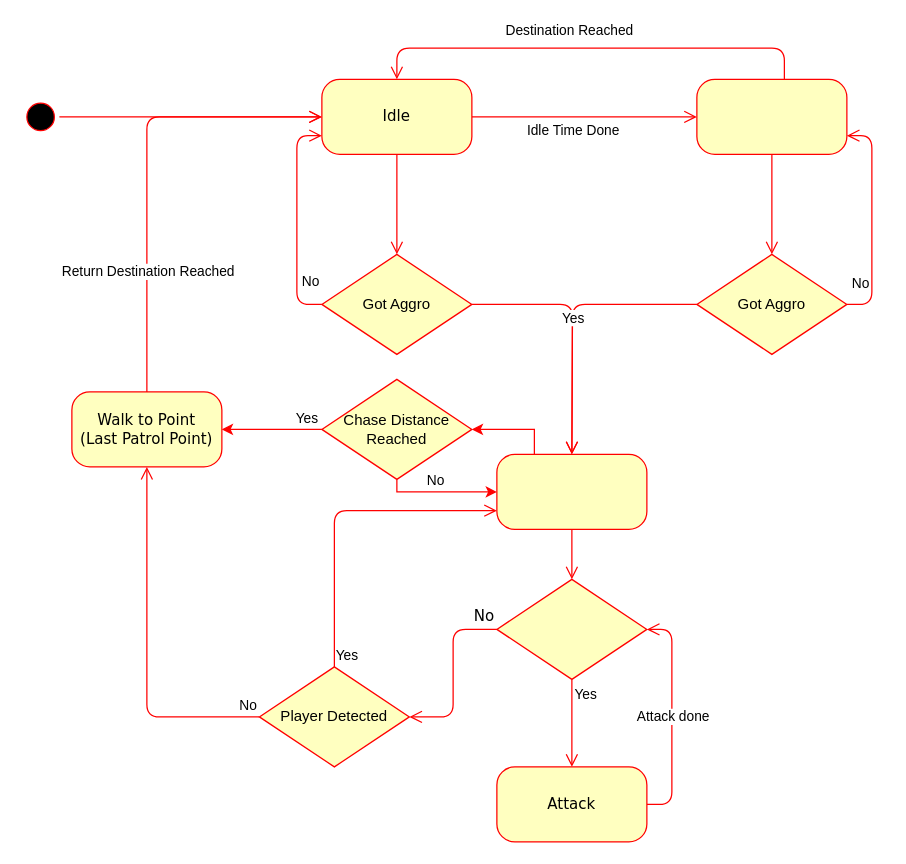
Image size: 906x864. Some labels were removed from this diagram. The centre of each missing label's shape, as x and y in pixels:
In Attack Range: (x=571, y=628)
Patrol: (x=771, y=116)
Walk to Point (Player Pos): (x=571, y=491)
